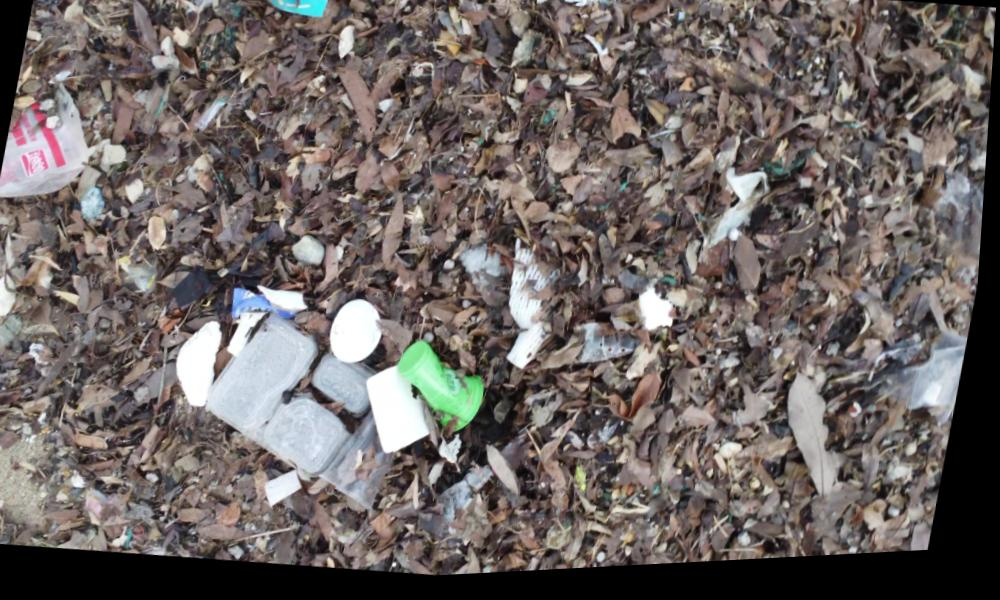plastic bag: (0, 75, 110, 217)
plastic bottle: (391, 347, 513, 446)
plastic container: (179, 293, 435, 521), (870, 336, 973, 459)
styrofoam: (320, 290, 397, 378), (171, 317, 232, 425)
